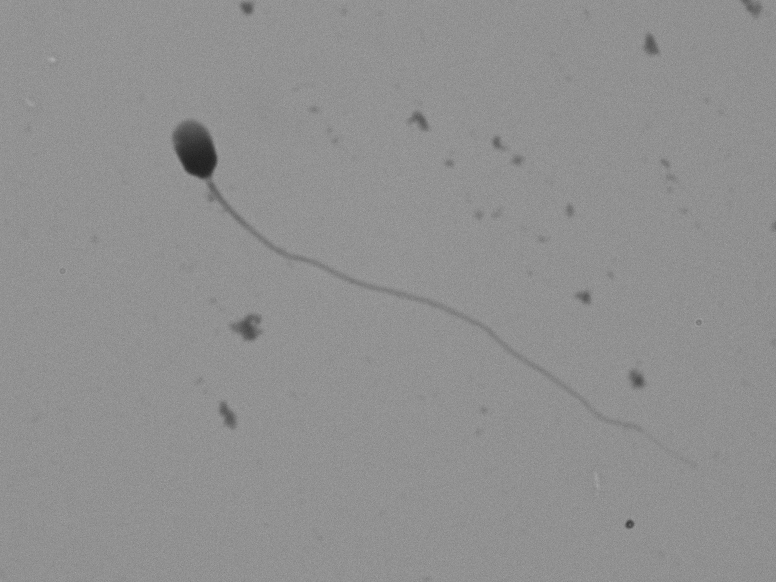Normal: (148, 96, 695, 474)
